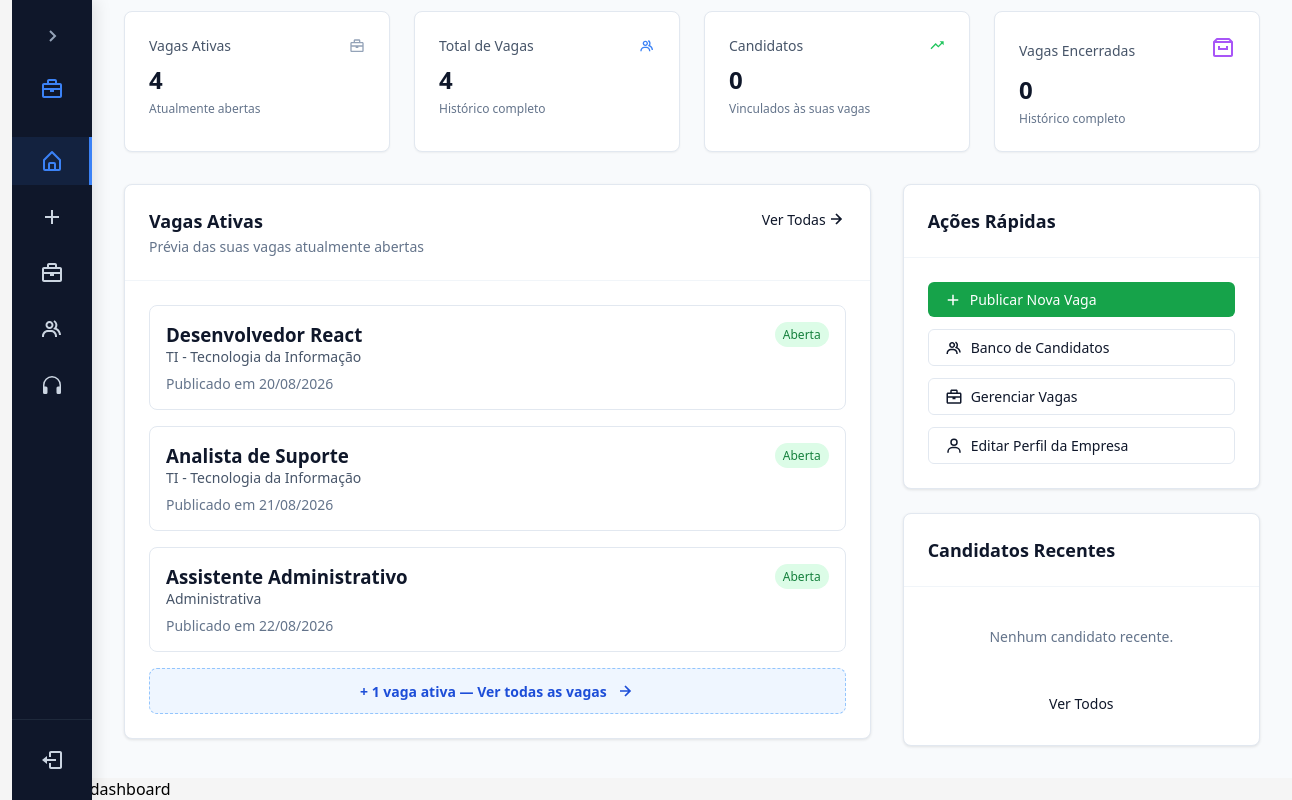
Scenario: dashboard de vagas da empresa › deve acessar a lista completa pela indicação de vagas adicionais
(page scrolled)
Click the button "+ 1 vaga ativa — Ver todas as vagas" at x=497, y=691, box [149, 668, 846, 714]
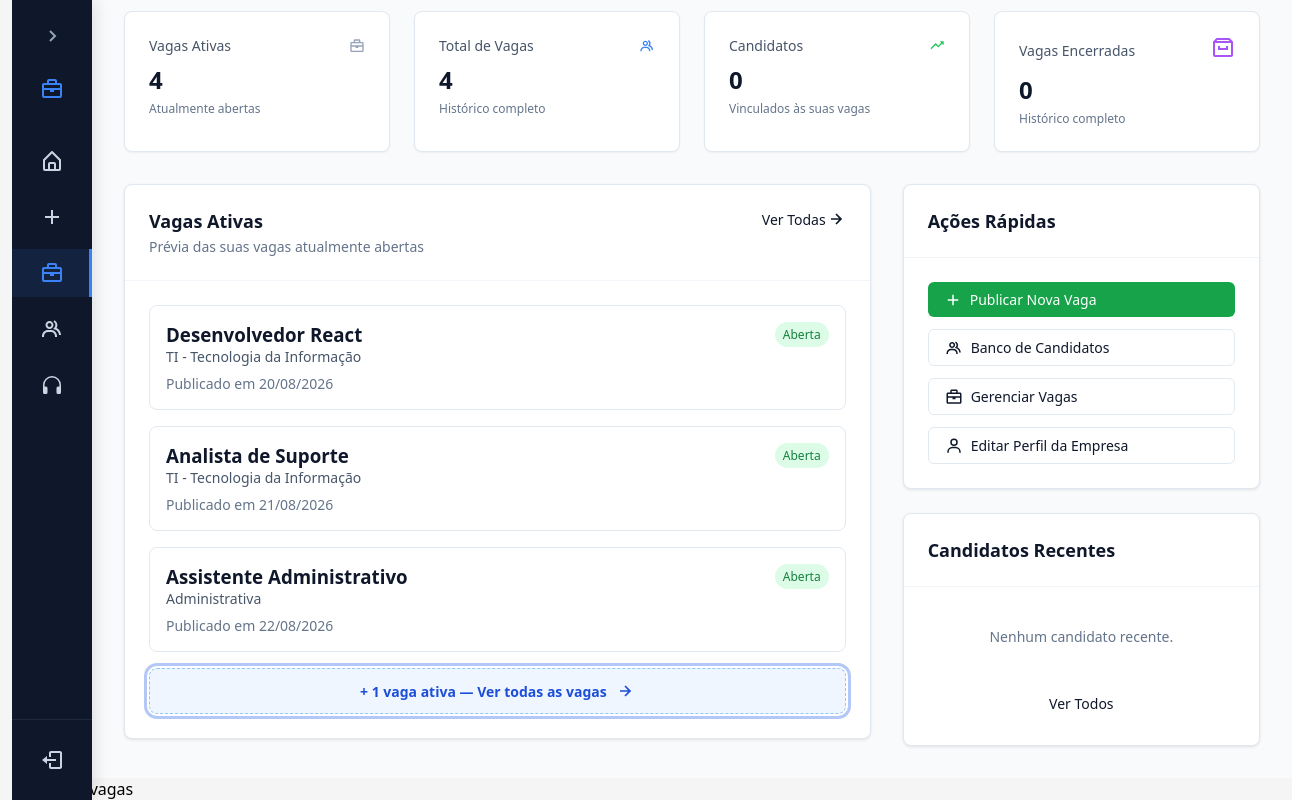
Now the text with test id "location" reads "/empresa/vagas", box [12, 778, 133, 799]
